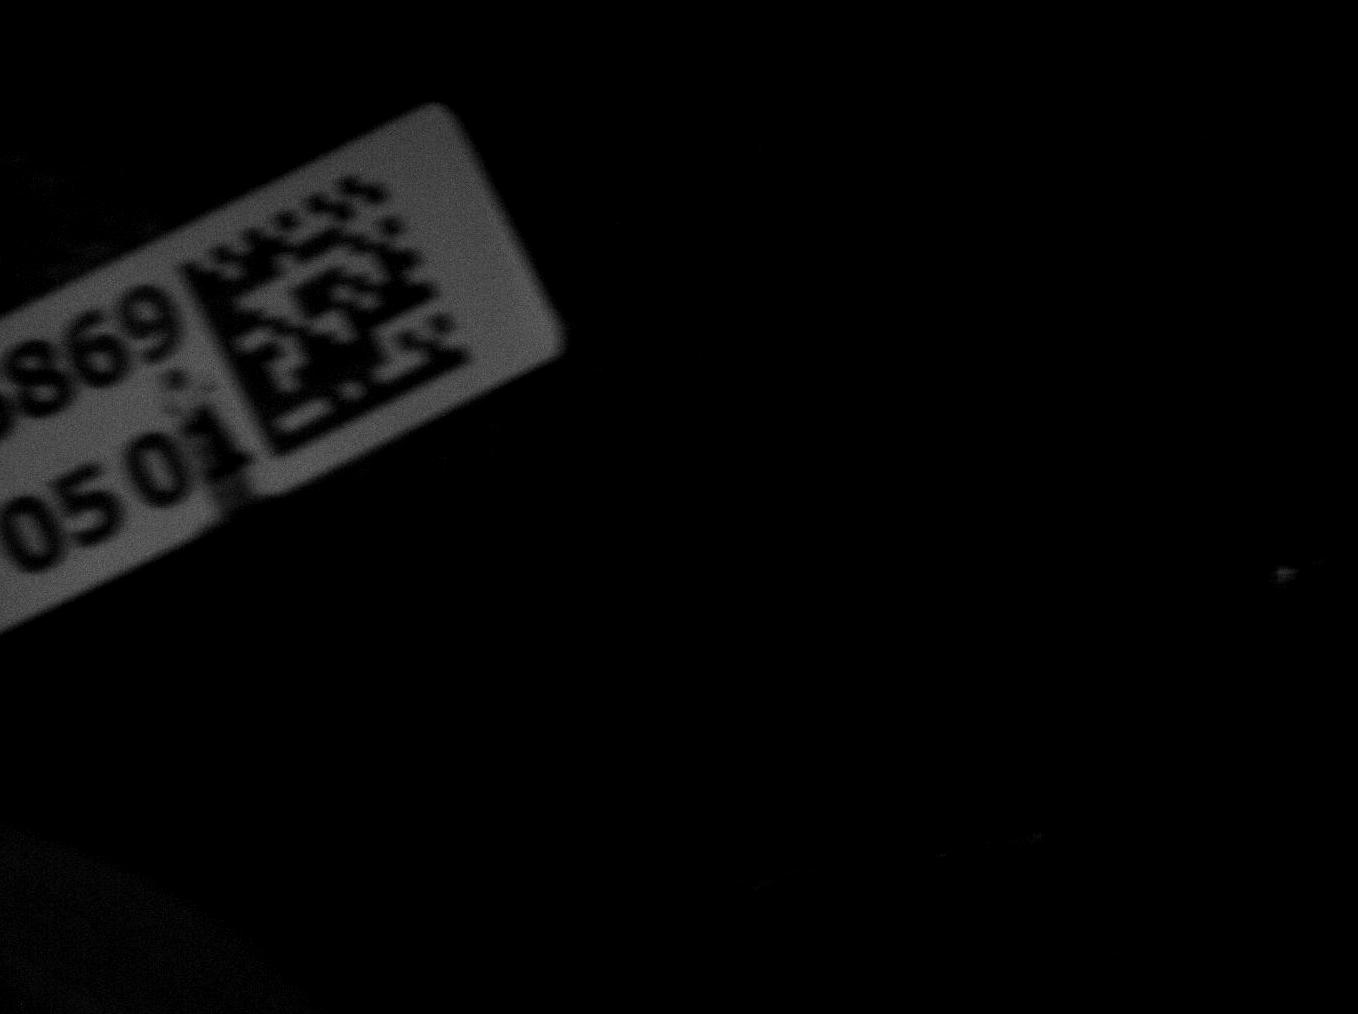data matrix: (170, 156, 486, 468)
